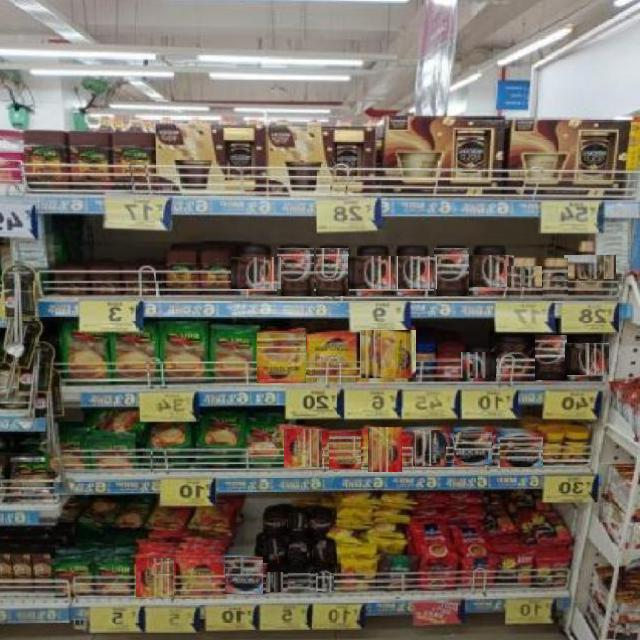Coffee: (359, 330, 416, 378), (257, 332, 306, 383), (309, 331, 355, 382), (276, 248, 314, 296), (433, 248, 469, 296), (348, 255, 398, 289), (387, 256, 437, 289), (231, 256, 281, 289), (315, 248, 349, 296), (367, 427, 402, 472), (465, 255, 514, 287), (137, 557, 174, 597), (284, 429, 322, 467), (225, 556, 263, 594), (181, 559, 220, 596), (535, 335, 567, 380), (496, 336, 527, 382), (565, 343, 609, 375), (453, 431, 492, 465), (499, 437, 543, 467), (564, 255, 616, 279), (413, 430, 446, 466), (328, 436, 361, 469), (461, 352, 496, 378), (544, 259, 568, 296), (507, 266, 542, 287), (313, 541, 334, 563), (312, 513, 337, 529), (288, 573, 310, 591), (264, 538, 279, 563), (288, 541, 307, 560), (316, 573, 334, 592), (266, 573, 283, 592), (261, 514, 281, 530), (289, 513, 304, 531)
